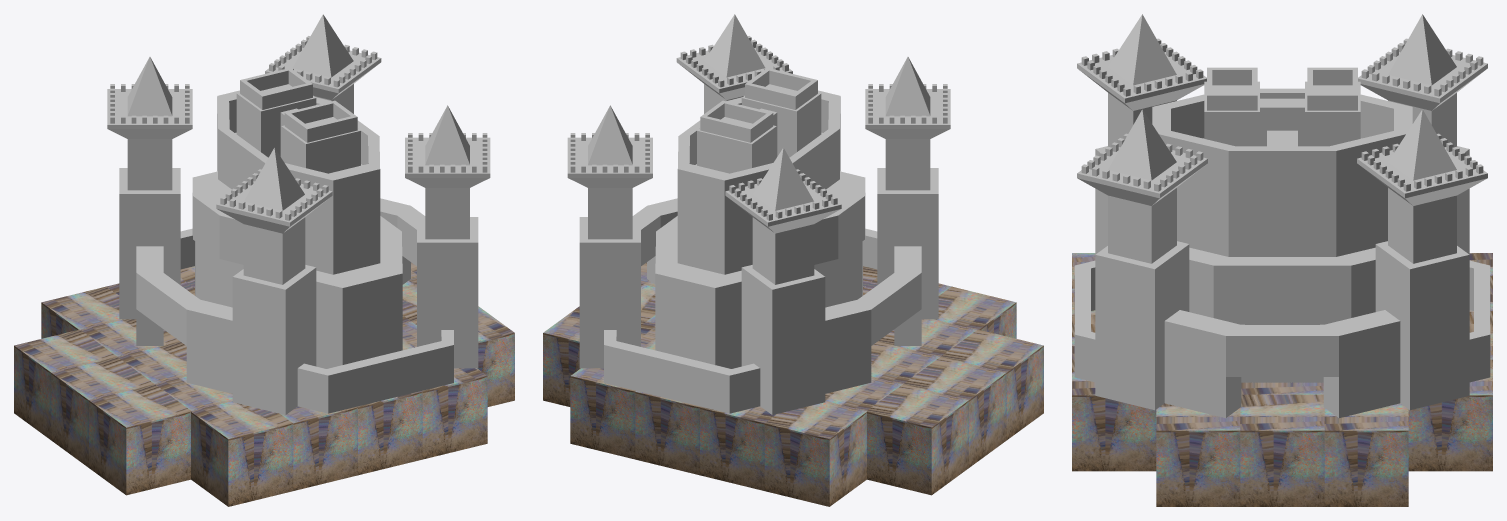
Rendered from SbS_Fortress01.fbx.
3 views of the same model, side by side, from view 1: azimuth 30°, elevation 25°; view 2: azimuth 150°, elevation 25°; view 3: azimuth 270°, elevation 25° (orthographic). The views are drawn at different scales.
Visible parts, largest first — view 1: obj2, obj1; view 2: obj2, obj1; view 3: obj2, obj1.
Part boxes in pixels (<box>): obj2: <box>107,14,490,414</box>; obj1: <box>14,262,514,506</box>; obj2: <box>567,14,950,414</box>; obj1: <box>543,262,1043,506</box>; obj2: <box>1074,14,1490,418</box>; obj1: <box>1072,253,1492,506</box>.
Size of the model in its own units: 6000 by 4690 by 5000.
